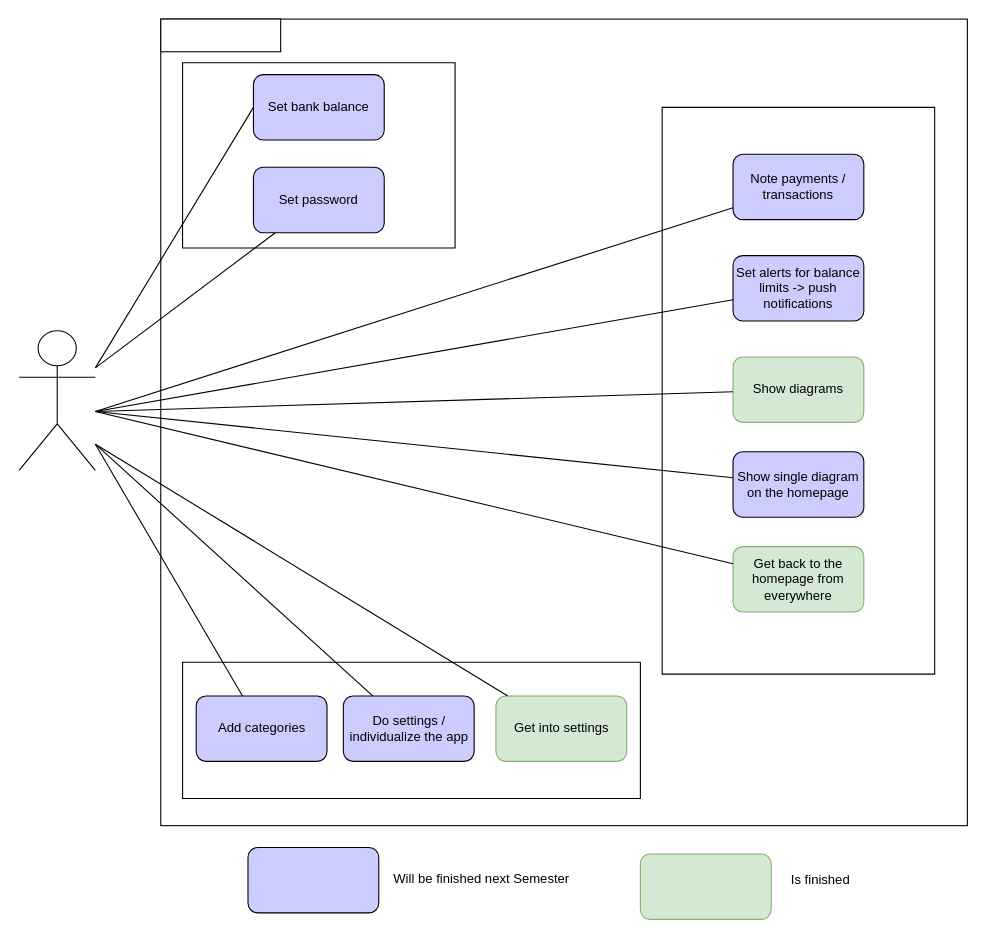
The diagram is 986 pixels wide and 938 high, and some of its shapes have lost their labels. Each missing label, with the box of its shape:
common use: (661, 106, 935, 674)
customize: (181, 661, 640, 798)
first use: (181, 62, 455, 248)
Overall Use Cases: (160, 18, 281, 52)
User: (18, 330, 95, 470)
